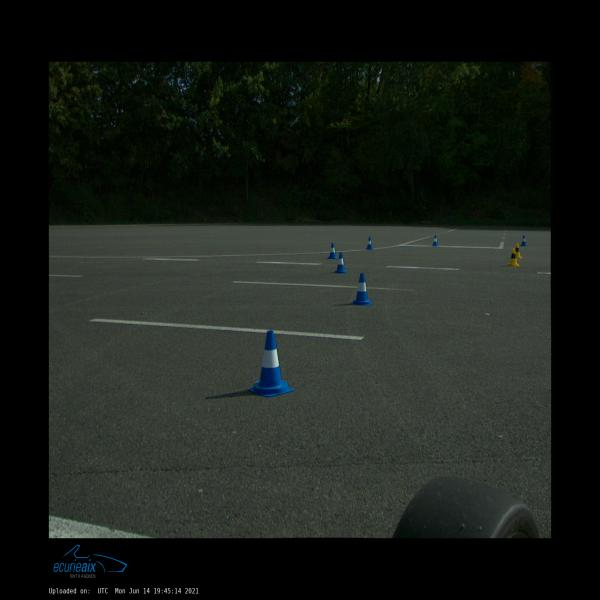blue_cone: (248, 331, 294, 397), (352, 273, 373, 306), (335, 252, 347, 273), (328, 242, 338, 258), (366, 237, 374, 249), (432, 235, 439, 246), (520, 235, 527, 246)
yellow_cone: (507, 248, 520, 266), (515, 243, 523, 259)
